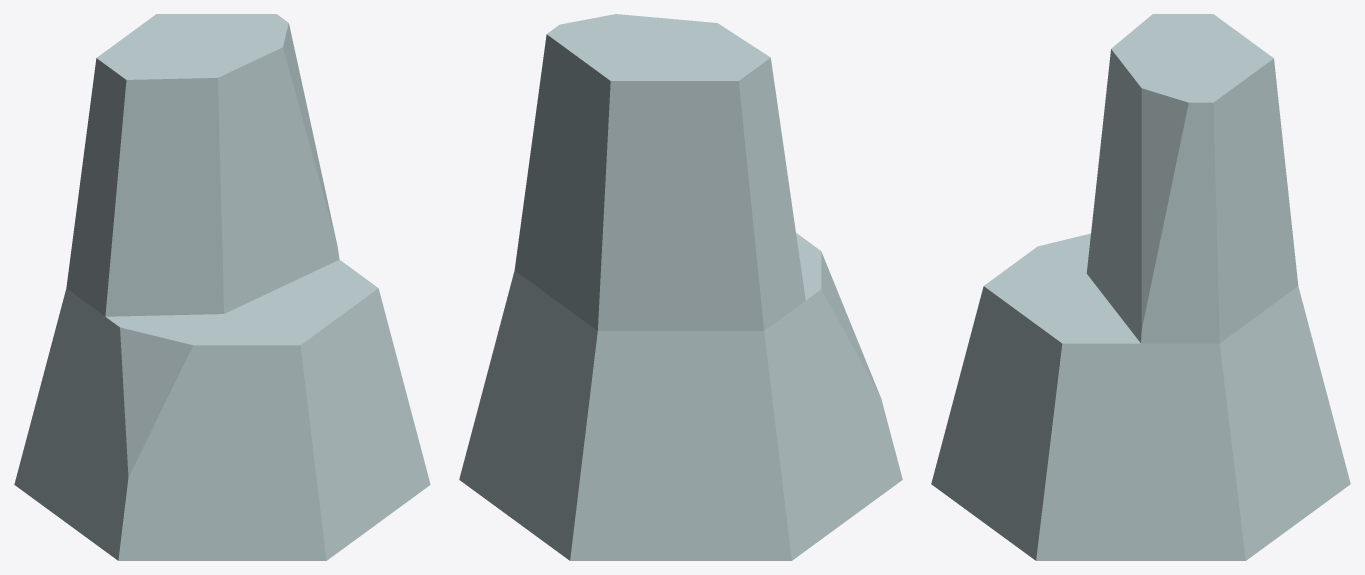
Rendered from stone_tallF.gltf.
The picture shows the model from 3 angles, left to right: view 1: azimuth 30°, elevation 25°; view 2: azimuth 150°, elevation 25°; view 3: azimuth 270°, elevation 25°; orthographic projection. The views are drawn at different scales.
Parts seen in each view (by area): view 1: stone_tallF; view 2: stone_tallF; view 3: stone_tallF.
Boxes of the visible parts, left/top/right/bottom form: stone_tallF: left=14, top=14, right=430, bottom=560; stone_tallF: left=459, top=14, right=902, bottom=560; stone_tallF: left=931, top=14, right=1350, bottom=560.
Size of the model in its own units: 0.4437 by 0.5737 by 0.5123.
